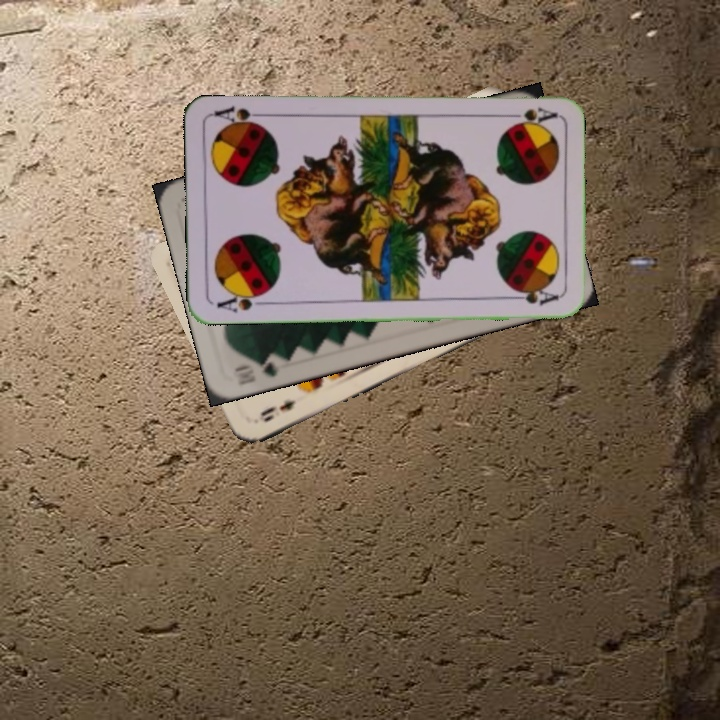E9: (256, 395, 299, 425)
G10: (230, 351, 286, 379)
SA: (213, 288, 271, 315), (499, 103, 558, 125)
